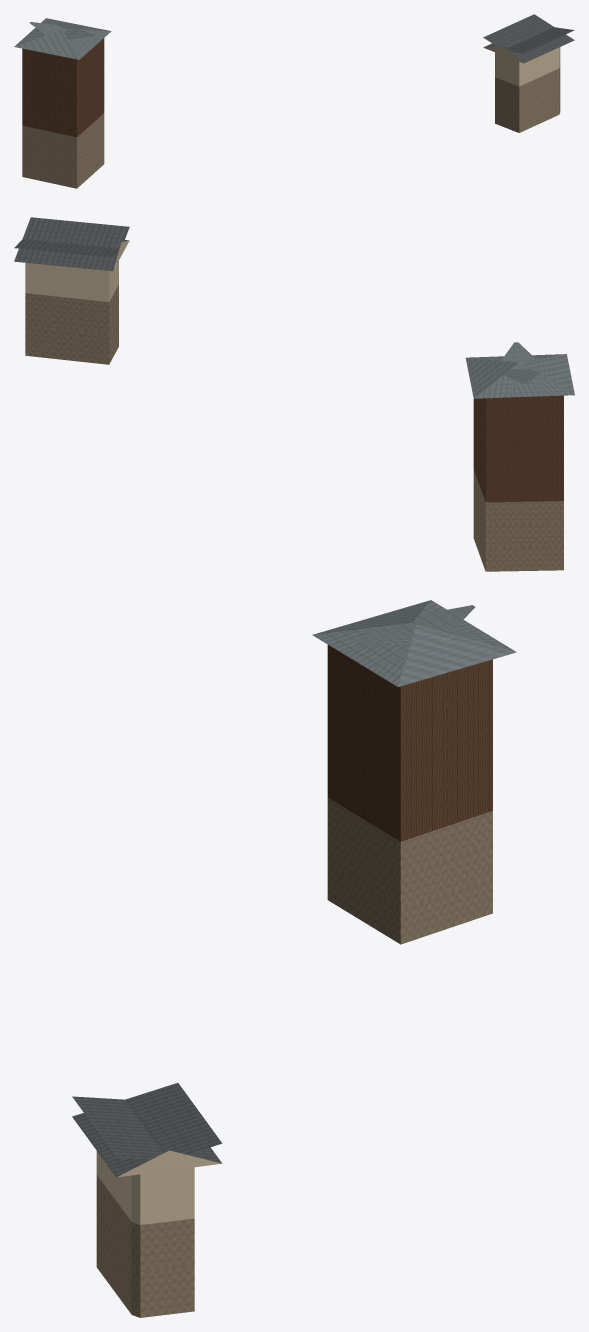
The model's file is bld_c37_36_289.gltf.
3 views of the same model, one above another, from view 1: azimuth 30°, elevation 25°; view 2: azimuth 150°, elevation 25°; view 3: azimuth 270°, elevation 25° (orthographic). The views are drawn at different scales.
Parts seen in each view (by area): view 1: bld_c37_36_289; view 2: bld_c37_36_289; view 3: bld_c37_36_289.
Boxes of the visible parts, box(x1,y1,x2,y2) form: bld_c37_36_289: box(14, 14, 574, 188); bld_c37_36_289: box(14, 217, 574, 571); bld_c37_36_289: box(72, 600, 516, 1317).
Bounding box in the file's own units: 50.12 × 14.1 × 20.03.
Materials: 6 (6 with a texture image).
